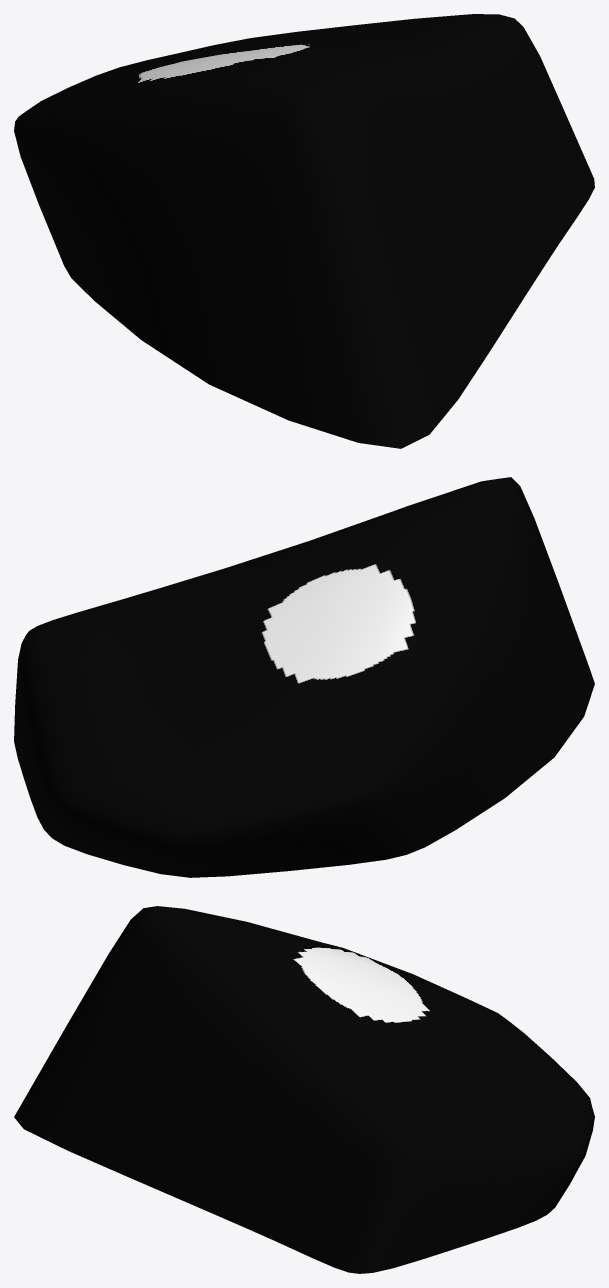
Rendered from BIGROCK1.fbx.
The picture shows the model from 3 angles, top to bottom: view 1: azimuth 30°, elevation 25°; view 2: azimuth 150°, elevation 25°; view 3: azimuth 270°, elevation 25°; orthographic projection. The views are drawn at different scales.
Visible parts, largest first — view 1: BIGROCK1; view 2: BIGROCK1; view 3: BIGROCK1.
Boxes of the visible parts, bbox=[...] form: BIGROCK1: bbox=[14, 14, 594, 448]; BIGROCK1: bbox=[14, 477, 594, 877]; BIGROCK1: bbox=[14, 906, 594, 1273].
Size of the model in its own units: 3.16 by 1.73 by 4.2.
